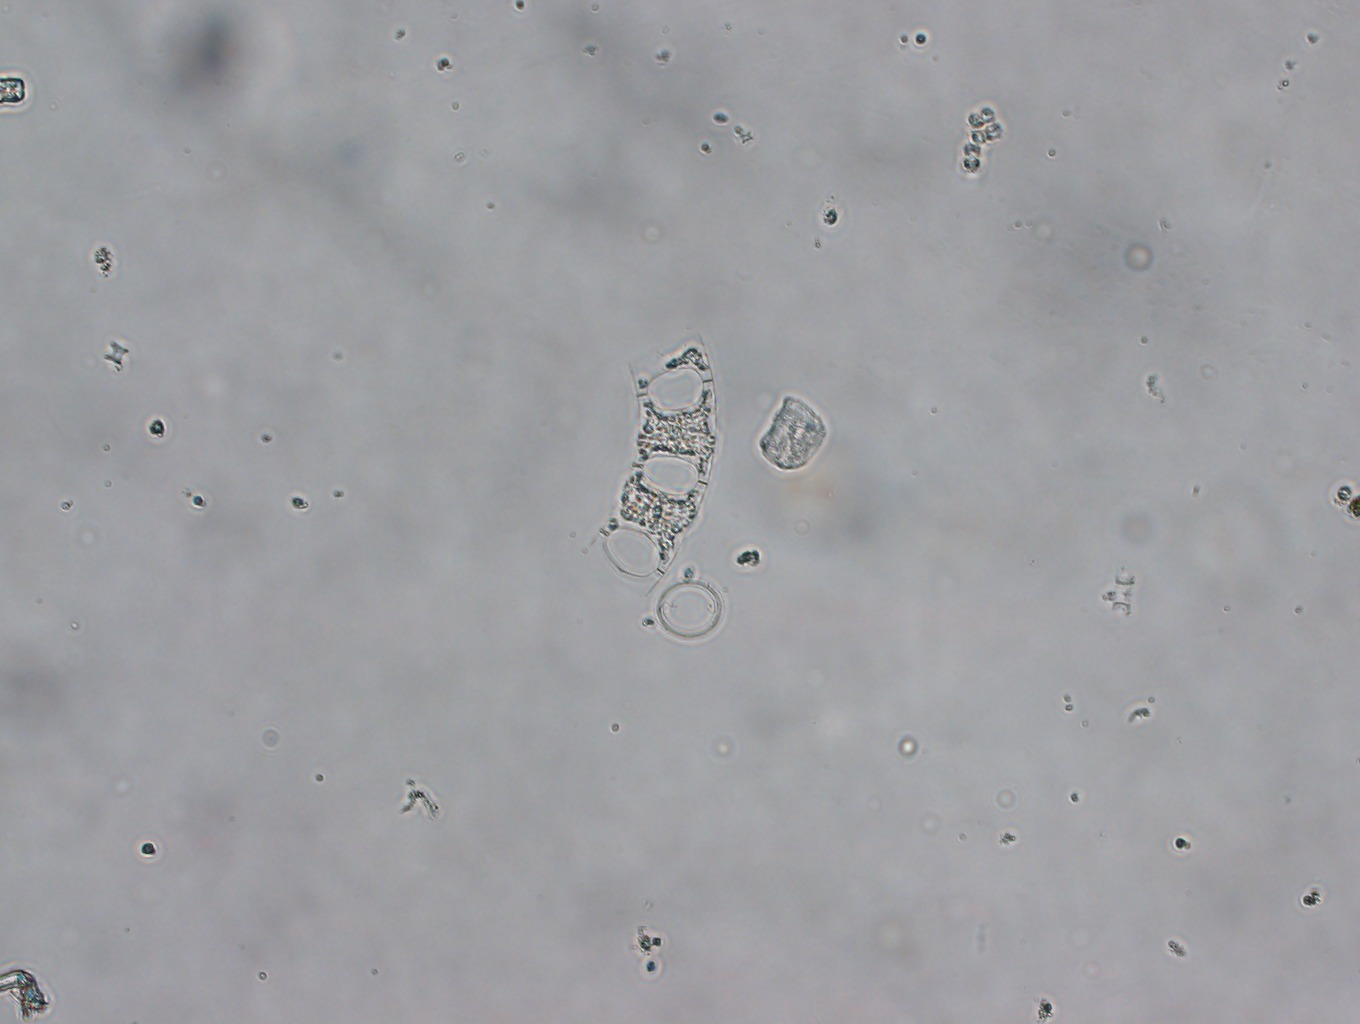eucampia: (558, 323, 726, 593)
